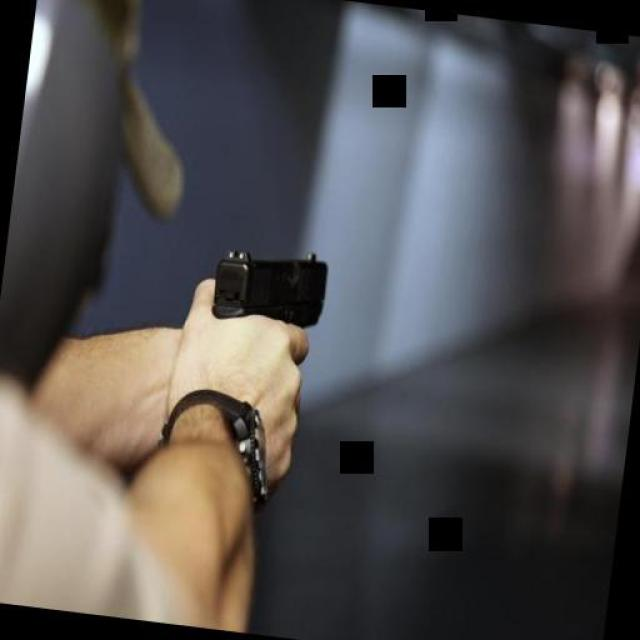gun: (208, 228, 334, 358)
